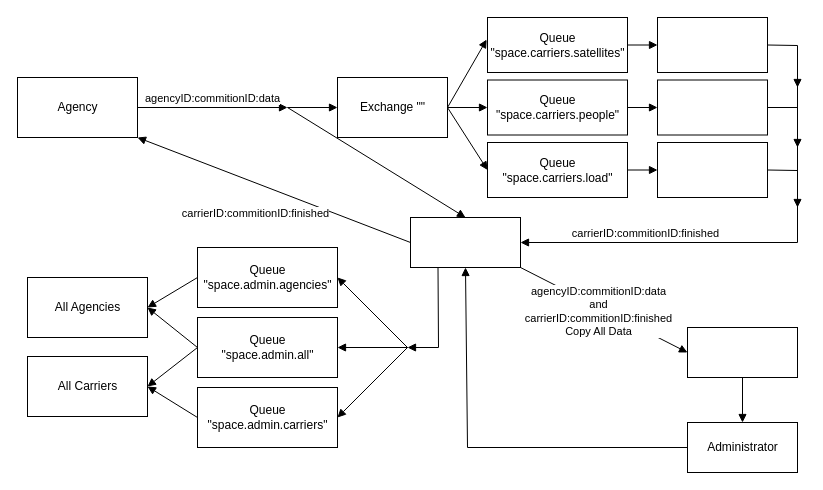
Some shapes in this 823 by 490 pixel diagram are drawn without their labels. The box of each missing label's shape, as (x1, y1, x2, y2) in pixels:
Carrier (load): (656, 16, 768, 72)
Carrier (people): (656, 79, 768, 135)
Carrier (satellites): (656, 142, 768, 198)
Queue "space.admin": (686, 326, 798, 378)
Topic Exchange "space": (410, 216, 520, 268)
